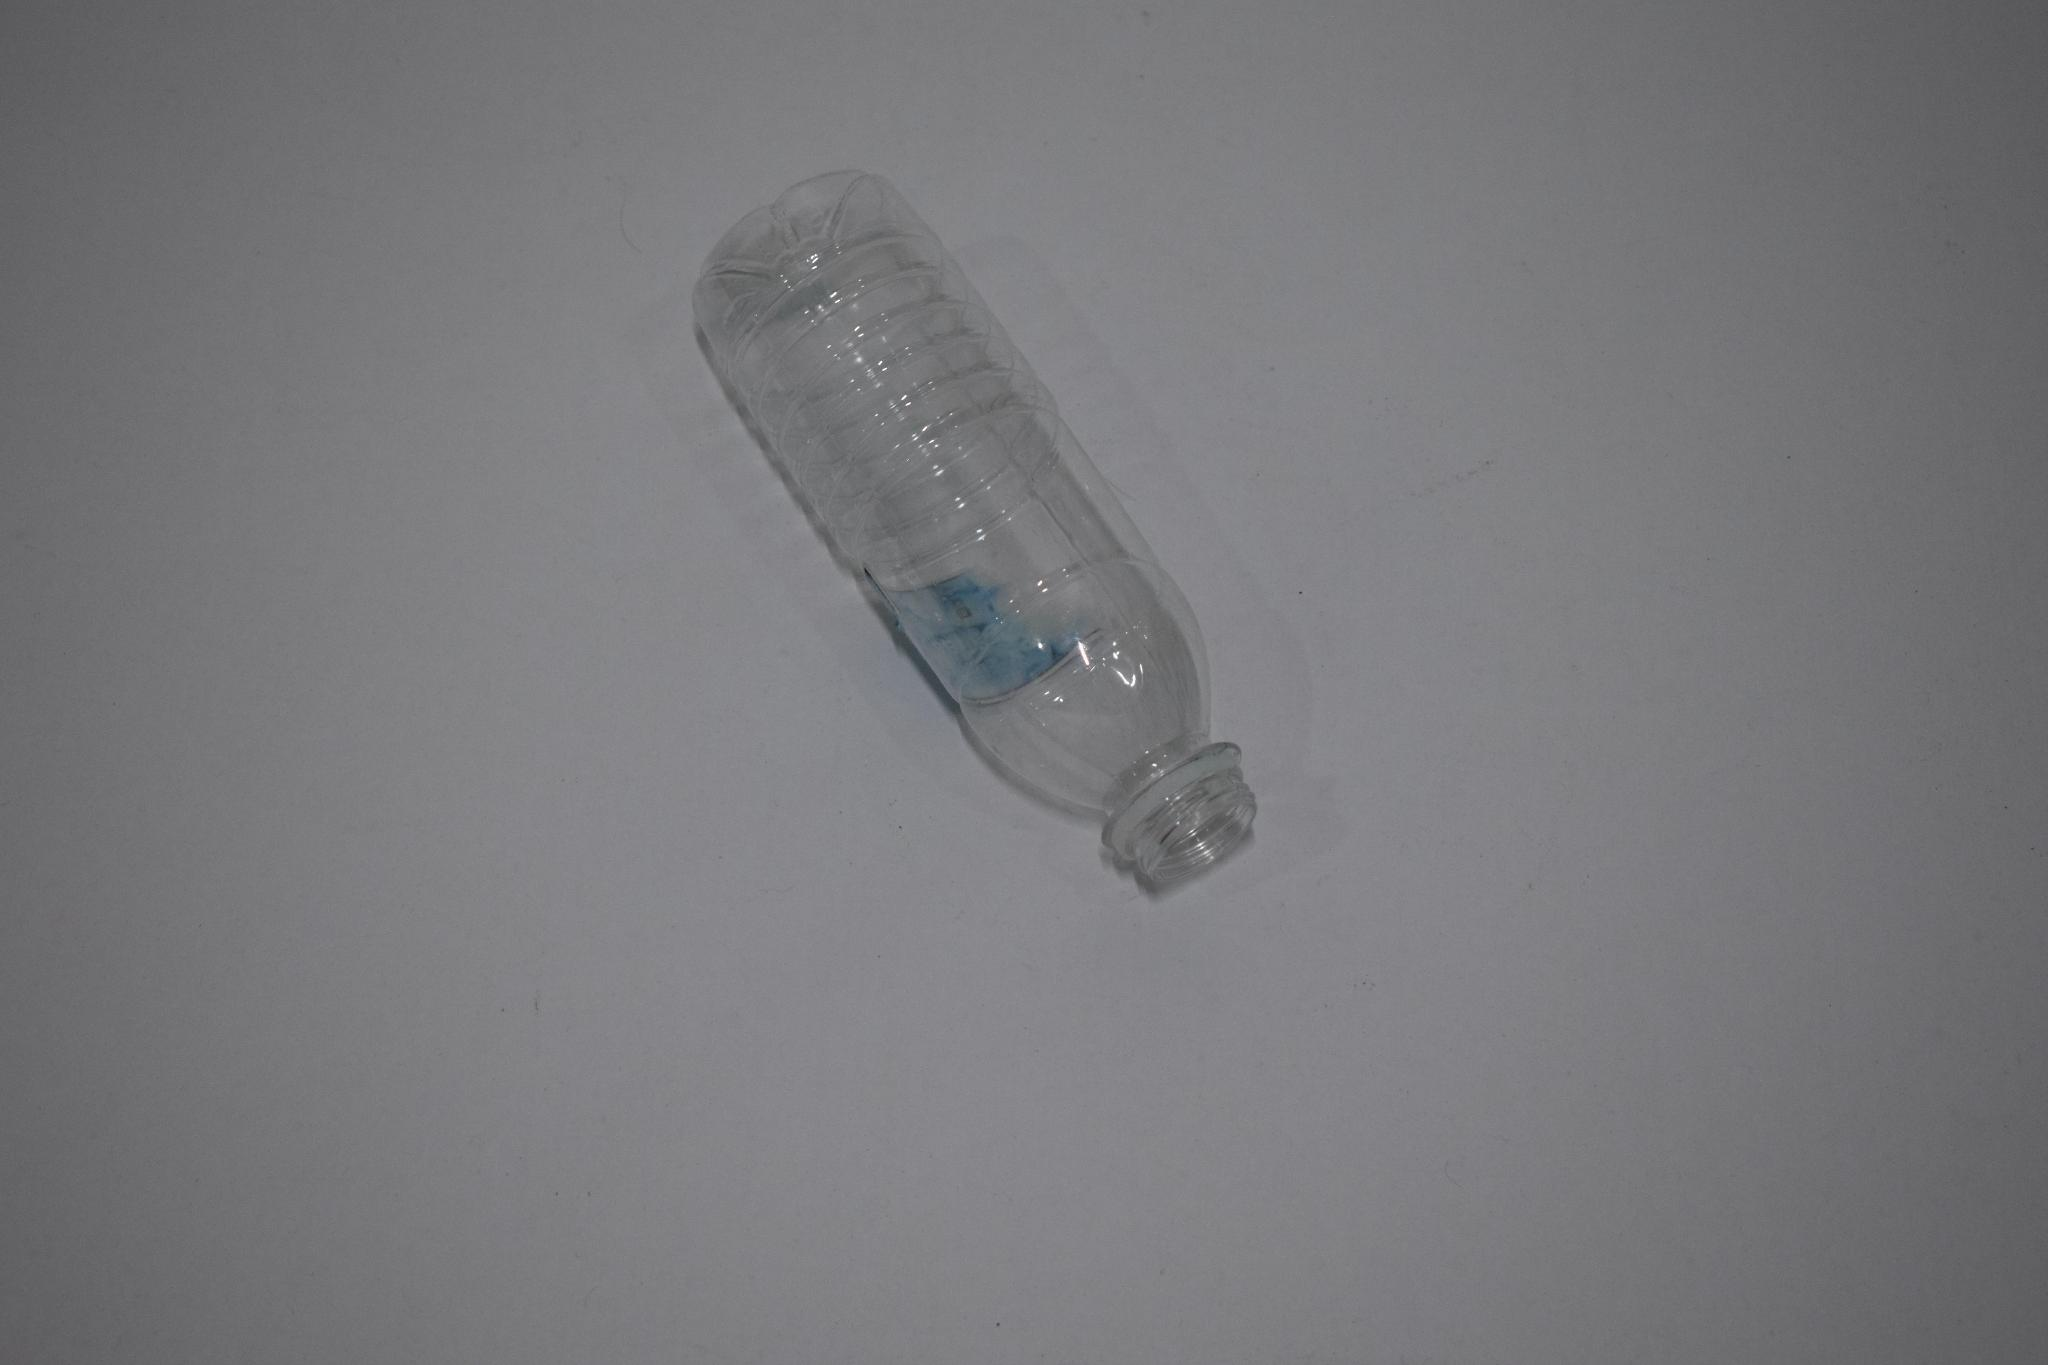bottle: (676, 158, 1288, 900)
